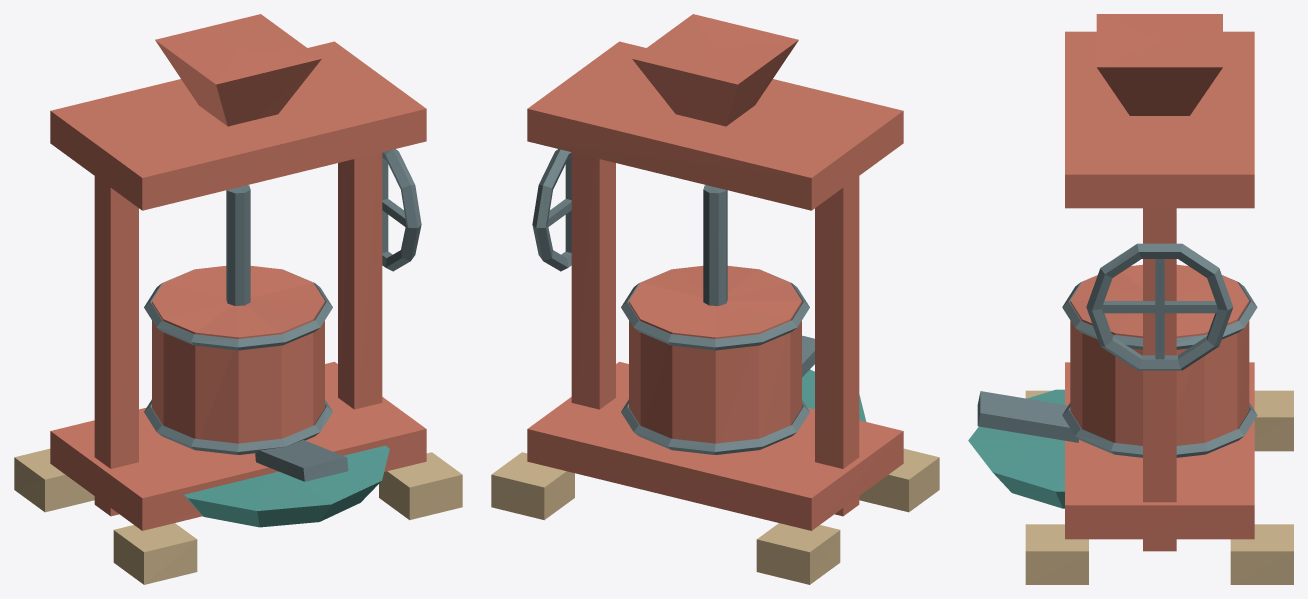
File: oil-press.source.glb
3 renders of one model, left to right at view 1: azimuth 30°, elevation 25°; view 2: azimuth 150°, elevation 25°; view 3: azimuth 270°, elevation 25°, orthographic. The views are drawn at different scales.
Parts seen in each view (by area): view 1: oil-press-frame-crossbeam-2.28-mesh, oil-press-cylindrical-slatted-basket-mesh, oil-press-frame-crossbeam-0.32-mesh, oil-press-frame-post--0.78-mesh, oil-press-tapered-feed-hopper-mesh, oil-press-frame-post-0.78-mesh, oil-press-empty-collection-basin-mesh, oil-press-stone-foot-3-mesh, oil-press-stone-foot-4-mesh, oil-press-stone-foot-1-mesh, oil-press-press-screw-mesh, oil-press-basket-band-1.17-mesh (+3 smaller); view 2: oil-press-frame-crossbeam-2.28-mesh, oil-press-cylindrical-slatted-basket-mesh, oil-press-frame-crossbeam-0.32-mesh, oil-press-frame-post--0.78-mesh, oil-press-tapered-feed-hopper-mesh, oil-press-frame-post-0.78-mesh, oil-press-stone-foot-1-mesh, oil-press-stone-foot-2-mesh, oil-press-stone-foot-3-mesh, oil-press-press-screw-mesh, oil-press-basket-band-1.17-mesh, oil-press-basket-band-0.53-mesh (+1 smaller); view 3: oil-press-frame-crossbeam-2.28-mesh, oil-press-cylindrical-slatted-basket-mesh, oil-press-frame-crossbeam-0.32-mesh, oil-press-tapered-feed-hopper-mesh, oil-press-frame-post-0.78-mesh, oil-press-handwheel-rim-mesh, oil-press-empty-collection-basin-mesh, oil-press-stone-foot-2-mesh, oil-press-stone-foot-4-mesh, oil-press-short-oil-spout-mesh, oil-press-stone-foot-1-mesh, oil-press-basket-band-0.53-mesh (+3 smaller).
Part boxes in pixels (box(x1,y1,x2,y2)): oil-press-frame-crossbeam-2.28-mesh: box(50, 41, 426, 210); oil-press-cylindrical-slatted-basket-mesh: box(152, 266, 324, 452); oil-press-frame-crossbeam-0.32-mesh: box(50, 361, 426, 530); oil-press-frame-post--0.78-mesh: box(94, 176, 138, 516); oil-press-tapered-feed-hopper-mesh: box(155, 14, 321, 126); oil-press-frame-post-0.78-mesh: box(338, 152, 382, 409); oil-press-empty-collection-basin-mesh: box(184, 445, 389, 527); oil-press-stone-foot-3-mesh: box(113, 523, 197, 584); oil-press-stone-foot-4-mesh: box(379, 452, 462, 520); oil-press-stone-foot-1-mesh: box(14, 448, 94, 512); oil-press-press-screw-mesh: box(226, 185, 250, 305); oil-press-basket-band-1.17-mesh: box(144, 269, 332, 350); oil-press-frame-crossbeam-2.28-mesh: box(527, 41, 903, 210); oil-press-cylindrical-slatted-basket-mesh: box(629, 266, 801, 452); oil-press-frame-crossbeam-0.32-mesh: box(527, 361, 903, 530); oil-press-frame-post--0.78-mesh: box(815, 176, 859, 516); oil-press-tapered-feed-hopper-mesh: box(632, 14, 798, 126); oil-press-frame-post-0.78-mesh: box(571, 152, 615, 409); oil-press-stone-foot-1-mesh: box(756, 523, 840, 584); oil-press-stone-foot-2-mesh: box(491, 452, 574, 520); oil-press-stone-foot-3-mesh: box(859, 448, 939, 512); oil-press-press-screw-mesh: box(703, 185, 727, 305); oil-press-basket-band-1.17-mesh: box(621, 269, 809, 350); oil-press-basket-band-0.53-mesh: box(621, 399, 809, 454); oil-press-frame-crossbeam-2.28-mesh: box(1065, 31, 1254, 208); oil-press-cylindrical-slatted-basket-mesh: box(1070, 264, 1249, 457); oil-press-frame-crossbeam-0.32-mesh: box(1065, 362, 1254, 539); oil-press-tapered-feed-hopper-mesh: box(1096, 14, 1222, 115); oil-press-frame-post-0.78-mesh: box(1143, 208, 1176, 551); oil-press-handwheel-rim-mesh: box(1086, 243, 1233, 370); oil-press-empty-collection-basin-mesh: box(968, 389, 1064, 508); oil-press-stone-foot-2-mesh: box(1230, 524, 1293, 584); oil-press-stone-foot-4-mesh: box(1025, 524, 1088, 584); oil-press-short-oil-spout-mesh: box(977, 391, 1079, 442); oil-press-stone-foot-1-mesh: box(1254, 390, 1293, 451); oil-press-basket-band-0.53-mesh: box(1062, 403, 1257, 457).
Bounding box in the file's own units: 2.04 × 2.75 × 1.75.
